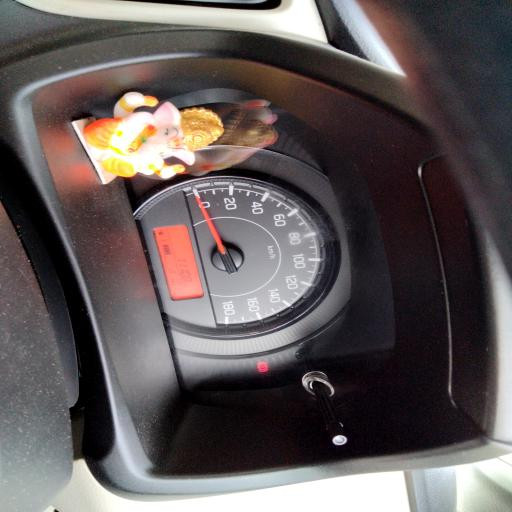brake_system_fault: (257, 362, 268, 372)
